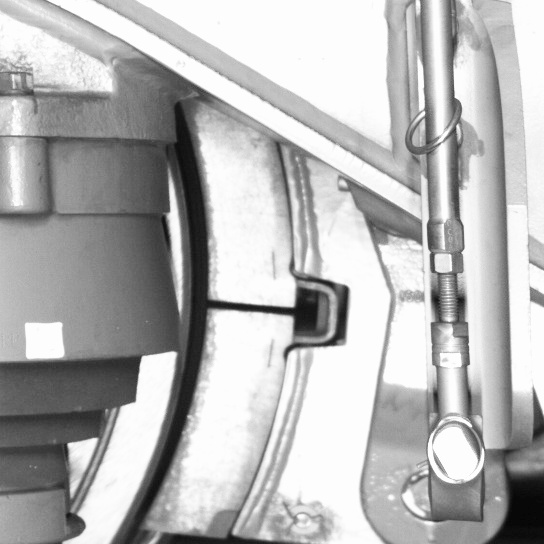KnifeSwitch: (108, 137, 307, 542)
